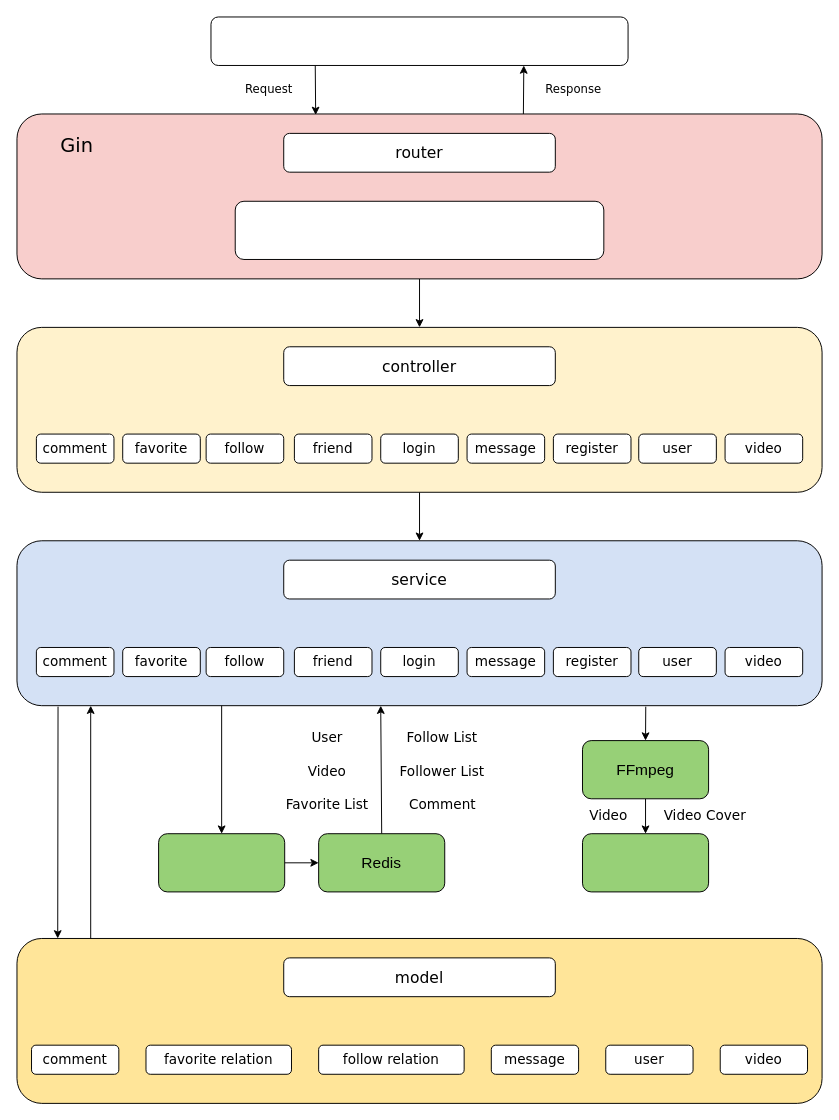
This 839x1120 diagram has some shape labels left out. The shapes that lost their labels are listed below. From the top down, each one's centre as x and y in pixels, then its label:
At point (419, 40): "Frontend".
At point (419, 229): "middleware JSON Web Token".
At point (221, 862): "RabbitMQ".
At point (645, 862): "OSS".
